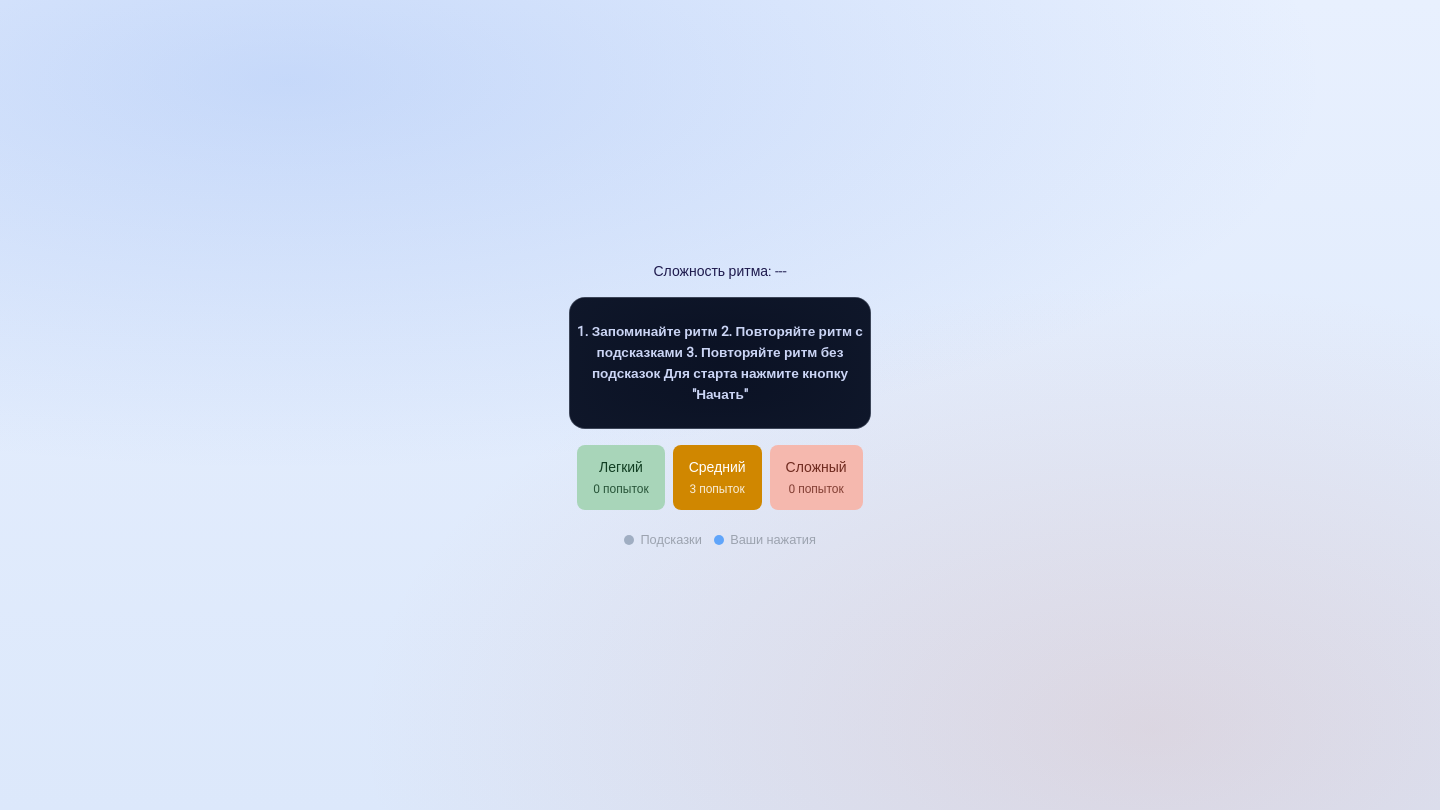
Test: Rhythm Playground — difficulty selection › clicking a difficulty hides the buttons and updates the header label
The image size is (1440, 810).
Click the button "Средний 3 попыток" at [717, 477], box [673,445,762,510]
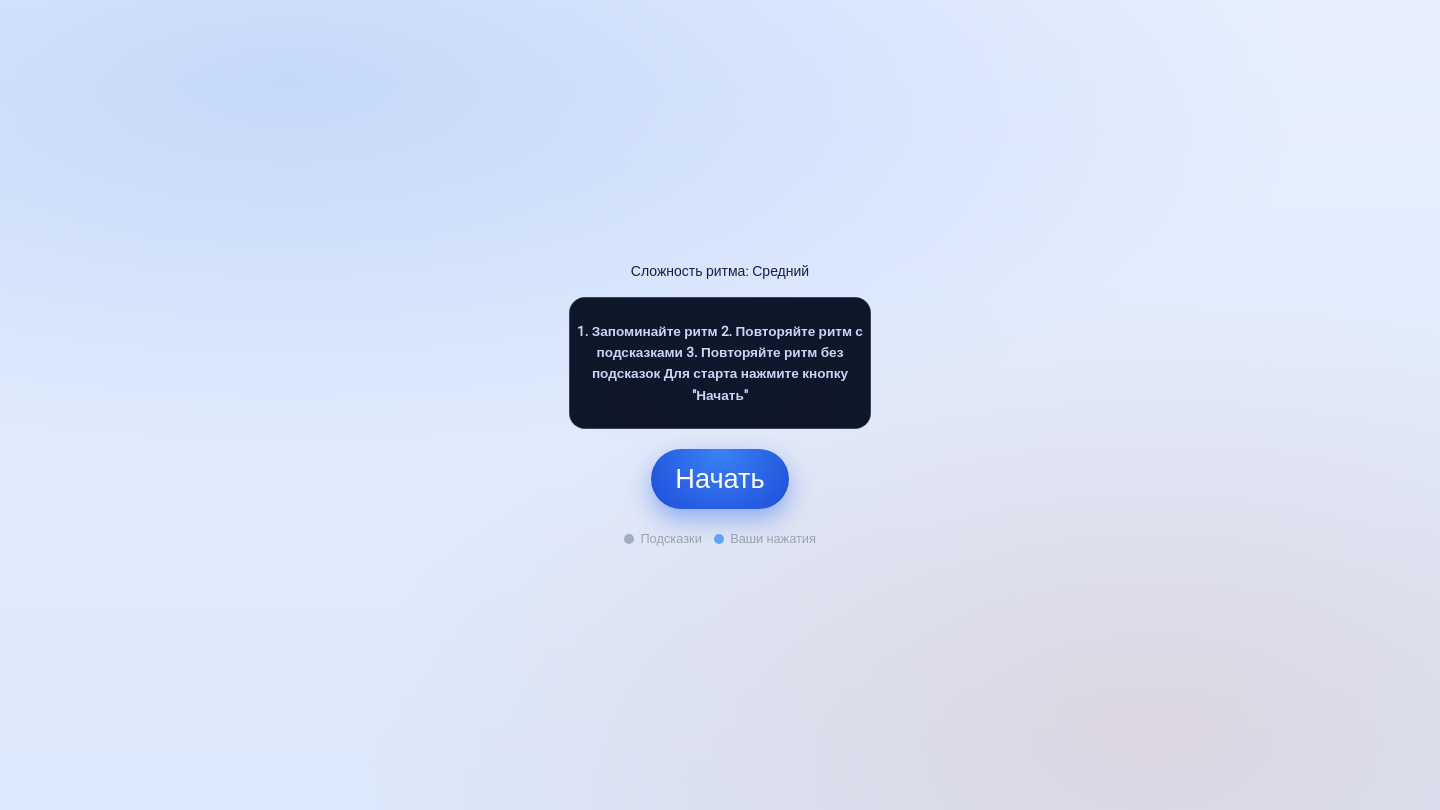
Expected: the drawing is shown, [570,298,870,428]
Expected: the text "Сложность ритма: Средний" is shown, [631,261,809,281]
